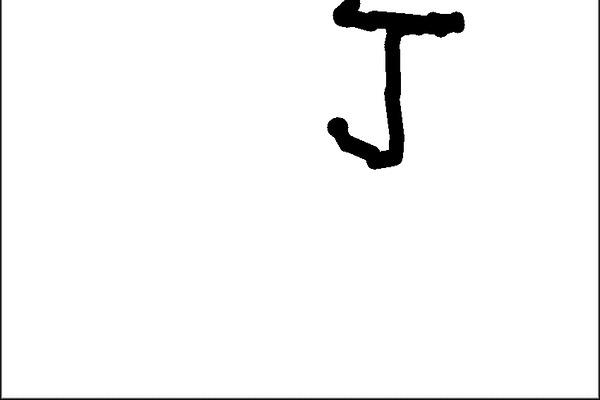J: (312, 1, 469, 176)
